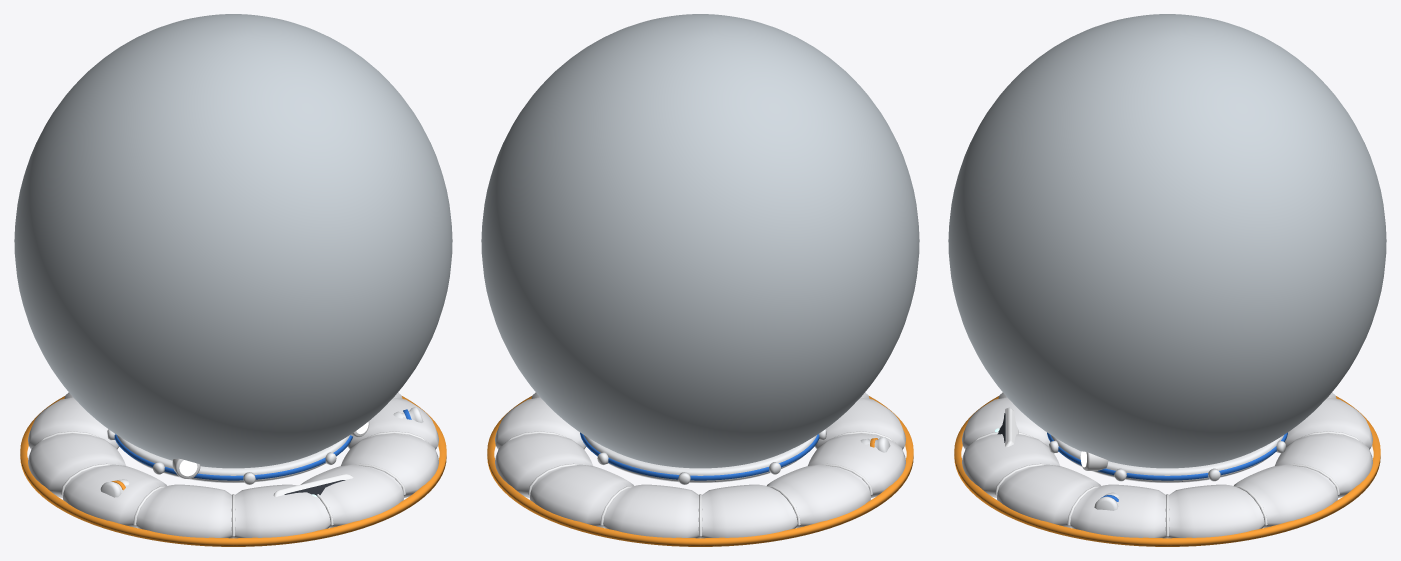
Rendered from astro.glb.
3 renders of one model, left to right at view 1: azimuth 30°, elevation 25°; view 2: azimuth 150°, elevation 25°; view 3: azimuth 270°, elevation 25°, orthographic.
Parts seen in each view (by area): view 1: glass_astro_dome, astro_body; view 2: glass_astro_dome, astro_body; view 3: glass_astro_dome, astro_body.
Part boxes in pixels (x1,y1,x2,y2): glass_astro_dome: (14,14,452,468); astro_body: (20,392,446,546); glass_astro_dome: (481,14,919,468); astro_body: (487,392,913,546); glass_astro_dome: (948,14,1386,468); astro_body: (954,392,1380,546).
Bounding box in the file's own units: 2.01 × 2.2 × 2.01.
